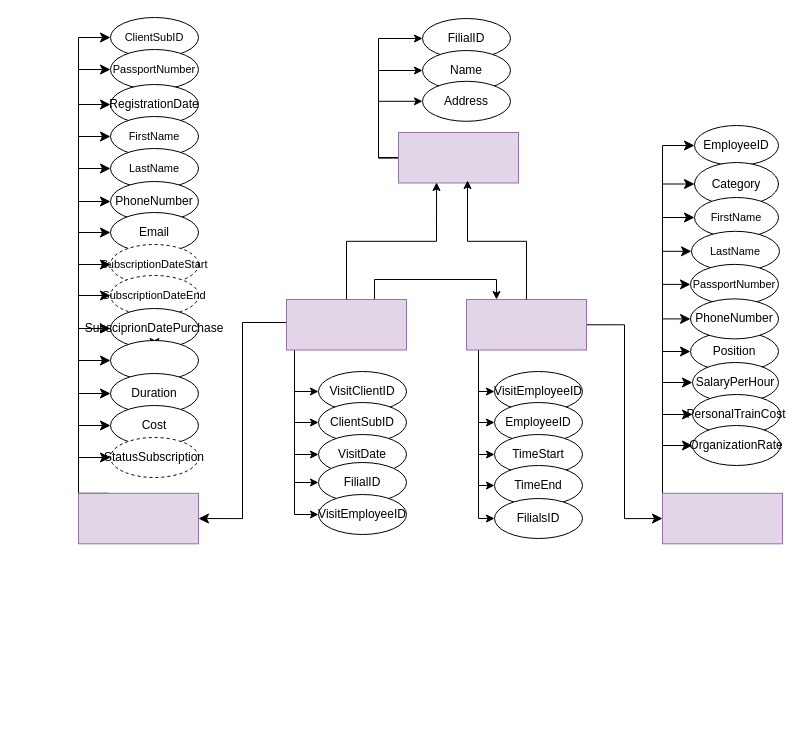
Image size: 803x738. Some labels were removed from this diagram. Here are the shapes that lost their labels. From the top down, the centre of each, then its label:
point (458, 157): Filials
point (346, 324): VisitClients
point (526, 324): VisitEmployees
point (154, 360): SubscriptionName
point (138, 518): ClientsSubs
point (722, 518): Employees
